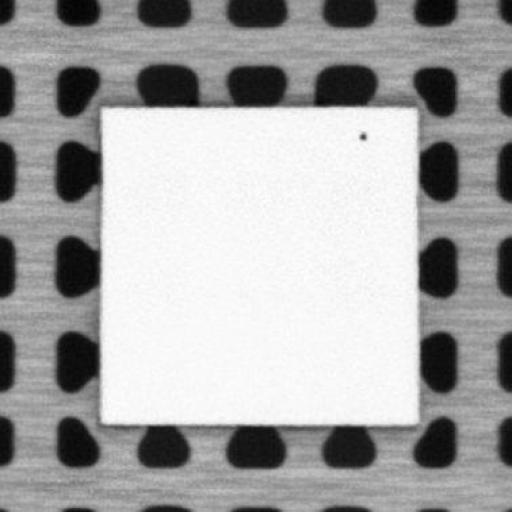DIE_INK: (355, 127, 368, 143)
